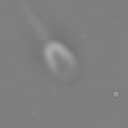normal: (12, 1, 50, 41)
